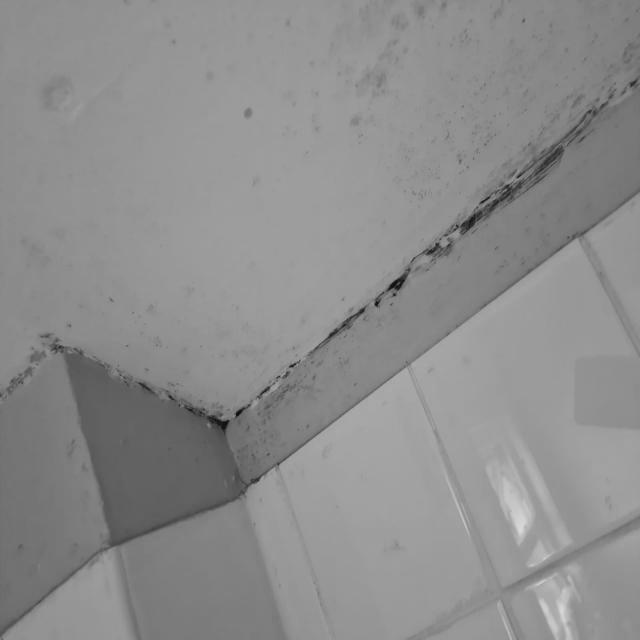stain marks: (0, 146, 372, 420), (478, 0, 639, 128), (335, 3, 477, 139), (150, 13, 266, 132), (458, 126, 575, 226), (272, 13, 332, 148), (380, 205, 460, 306), (398, 130, 457, 219)
